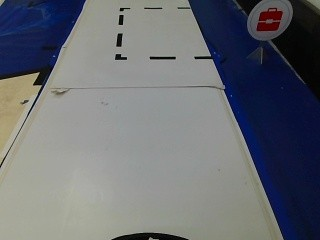company: (246, 0, 290, 40)
